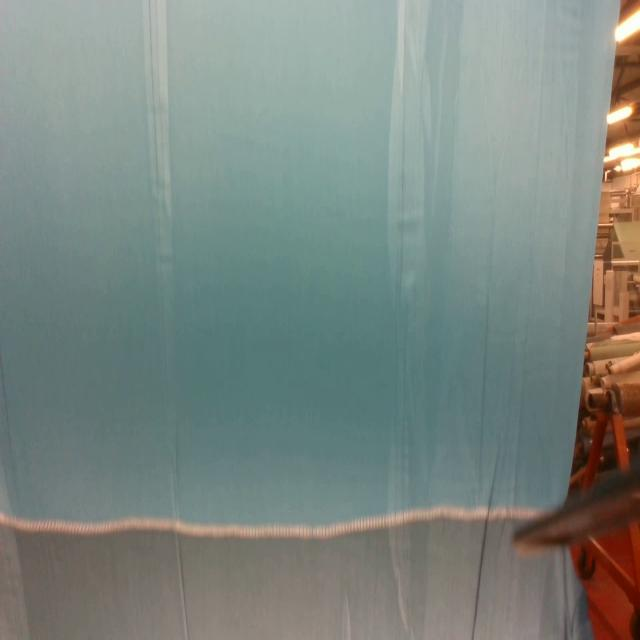crease: (142, 0, 193, 639), (386, 0, 431, 637), (513, 5, 549, 505), (474, 158, 498, 494), (470, 456, 502, 632)
